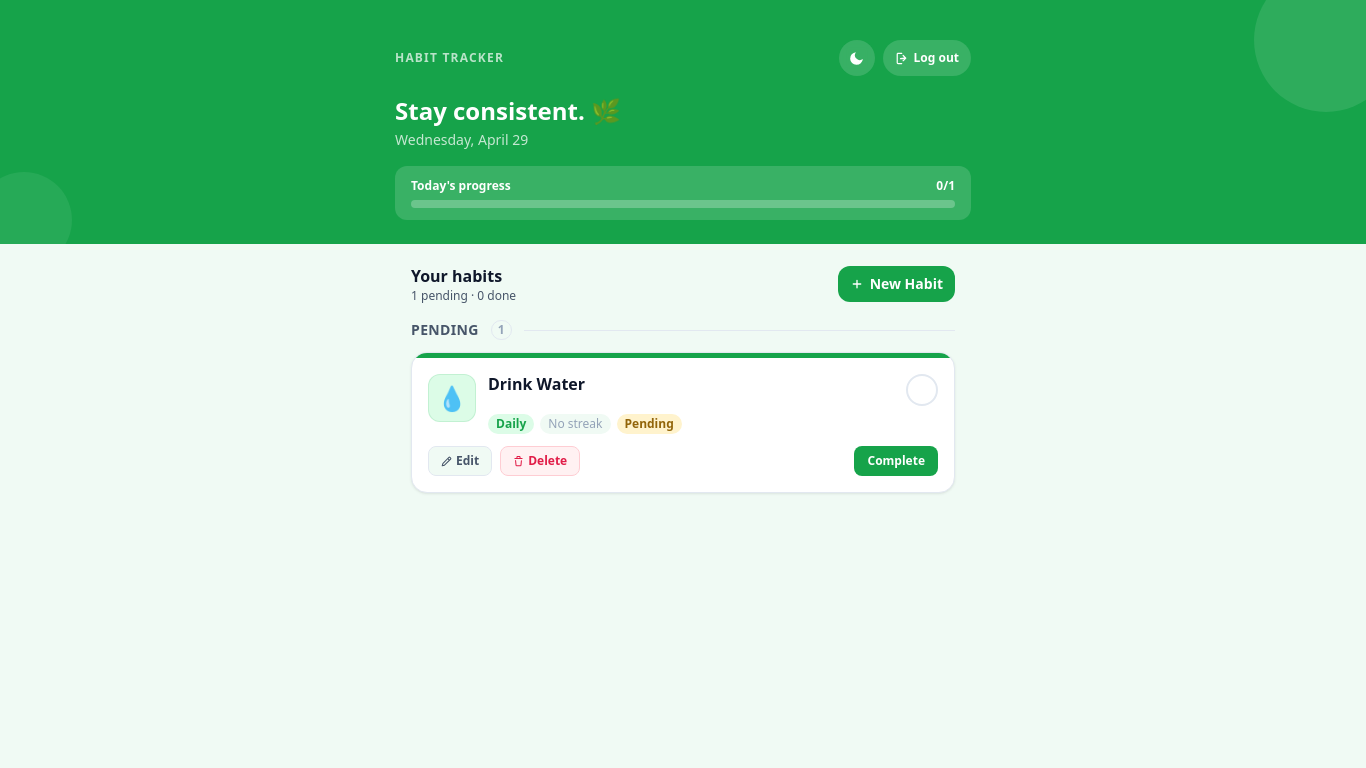
Scenario: habit form › deletes a habit only after explicit confirmation
Click the button with test id "habit-delete-drink-water".
click(540, 461)  # box [500,446,580,476]
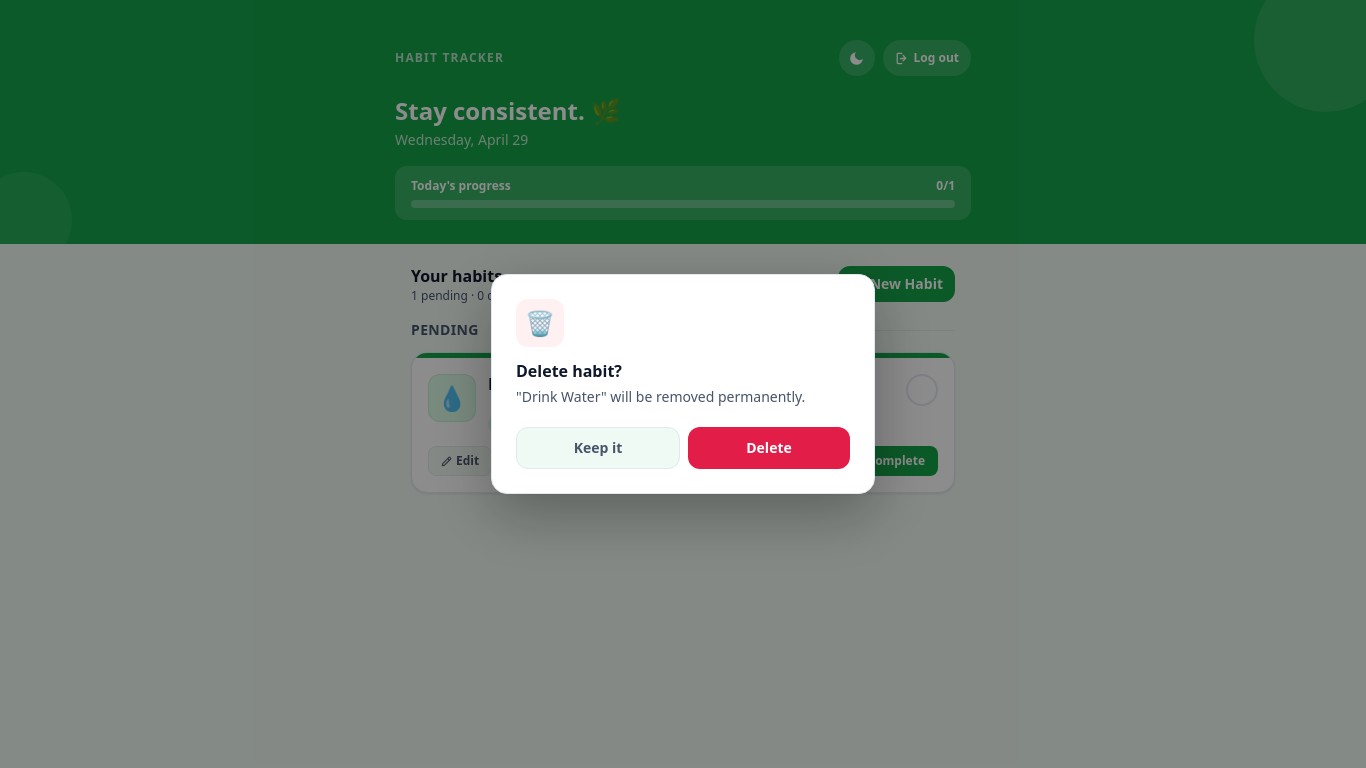
Click the button with test id "confirm-delete-button".
click(769, 448)  # box [688,427,850,469]
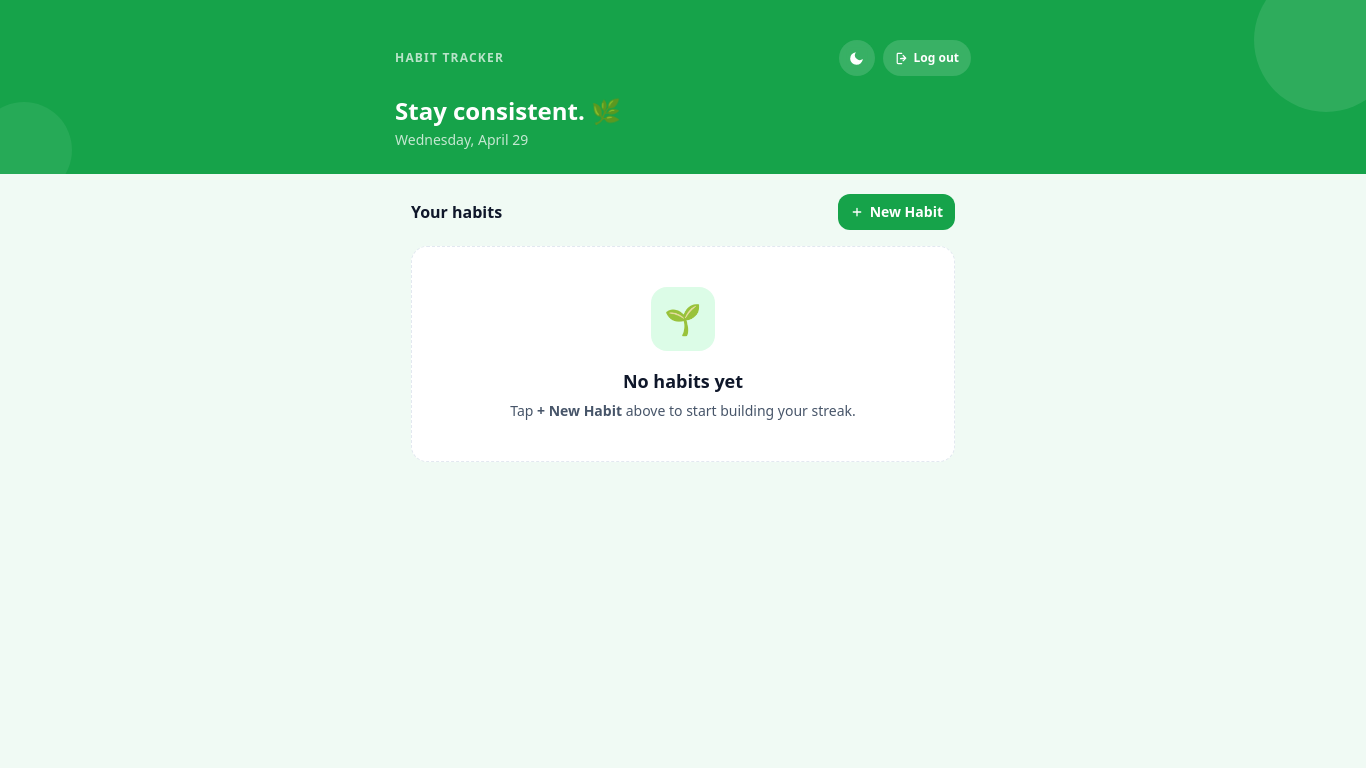
Expected: the element with test id "habit-card-drink-water" is gone
